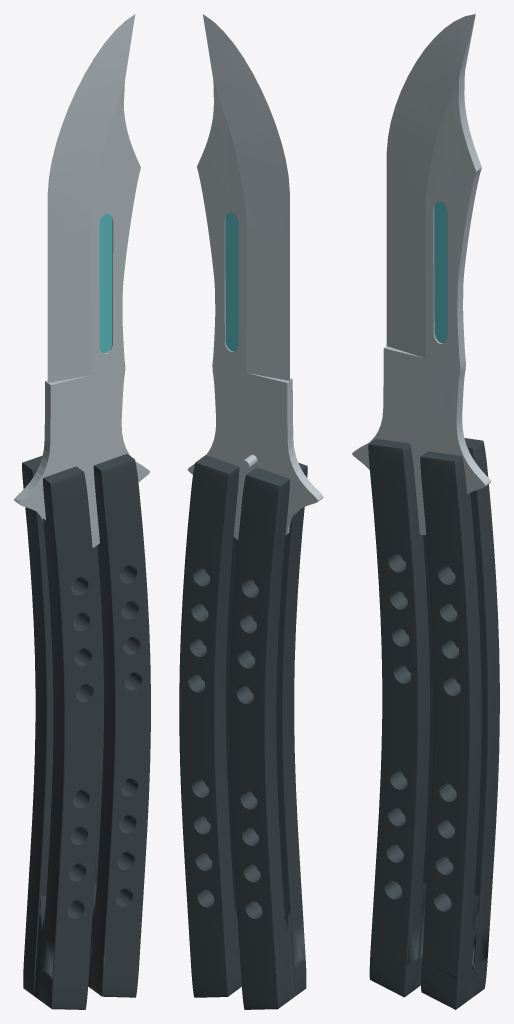
File: butterfly.glb
3 renders of one model, left to right at view 1: azimuth 30°, elevation 25°; view 2: azimuth 150°, elevation 25°; view 3: azimuth 330°, elevation 25°, orthographic. The views are drawn at different scales.
Parts seen in each view (by area): view 1: TopHandle_TopHandle_carbon_0, knife-blade, BottomHandle_BottomHandle_carbon_0, Blade_Material.001_0; view 2: TopHandle_TopHandle_carbon_0, knife-blade, BottomHandle_BottomHandle_carbon_0, Blade_Material.001_0; view 3: BottomHandle_BottomHandle_carbon_0, knife-blade, TopHandle_TopHandle_carbon_0, Blade_Material.001_0.
Boxes of the visible parts, box(x1,y1,x2,y2) form: TopHandle_TopHandle_carbon_0: box(22, 455, 100, 1009); knife-blade: box(14, 14, 149, 547); BottomHandle_BottomHandle_carbon_0: box(88, 454, 150, 997); Blade_Material.001_0: box(99, 213, 112, 353); TopHandle_TopHandle_carbon_0: box(229, 462, 307, 1009); knife-blade: box(187, 14, 323, 539); BottomHandle_BottomHandle_carbon_0: box(179, 455, 241, 997); Blade_Material.001_0: box(225, 212, 238, 351); BottomHandle_BottomHandle_carbon_0: box(420, 438, 499, 1009); knife-blade: box(352, 14, 490, 535); TopHandle_TopHandle_carbon_0: box(368, 439, 433, 997); Blade_Material.001_0: box(434, 201, 447, 343).
Bounding box in the file's own units: 0.069 × 0.4908 × 0.0271.
